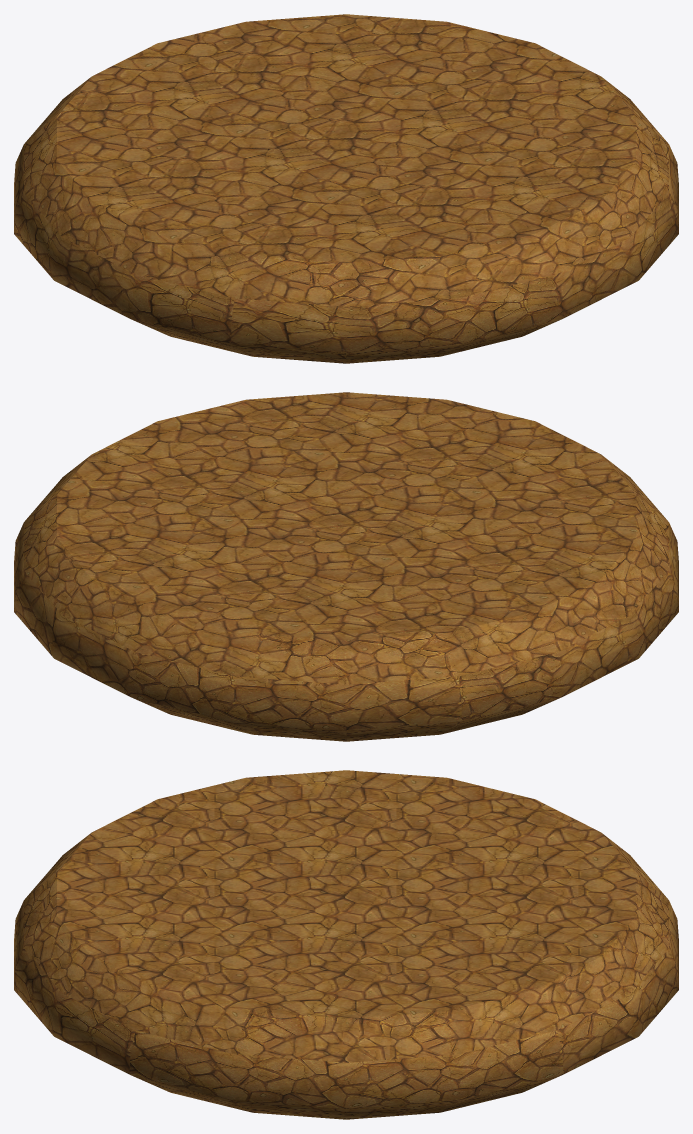
File: Ground.FBX
3 renders of one model, top to bottom at view 1: azimuth 30°, elevation 25°; view 2: azimuth 150°, elevation 25°; view 3: azimuth 270°, elevation 25°, orthographic.
Parts seen in each view (by area): view 1: ground; view 2: ground; view 3: ground.
Boxes of the visible parts, <box> form: ground: <box>14,14,678,363</box>; ground: <box>14,392,678,741</box>; ground: <box>14,770,678,1119</box>.
Size of the model in its own units: 2370 by 424 by 2334.
Materials: 1 (1 with a texture image).
